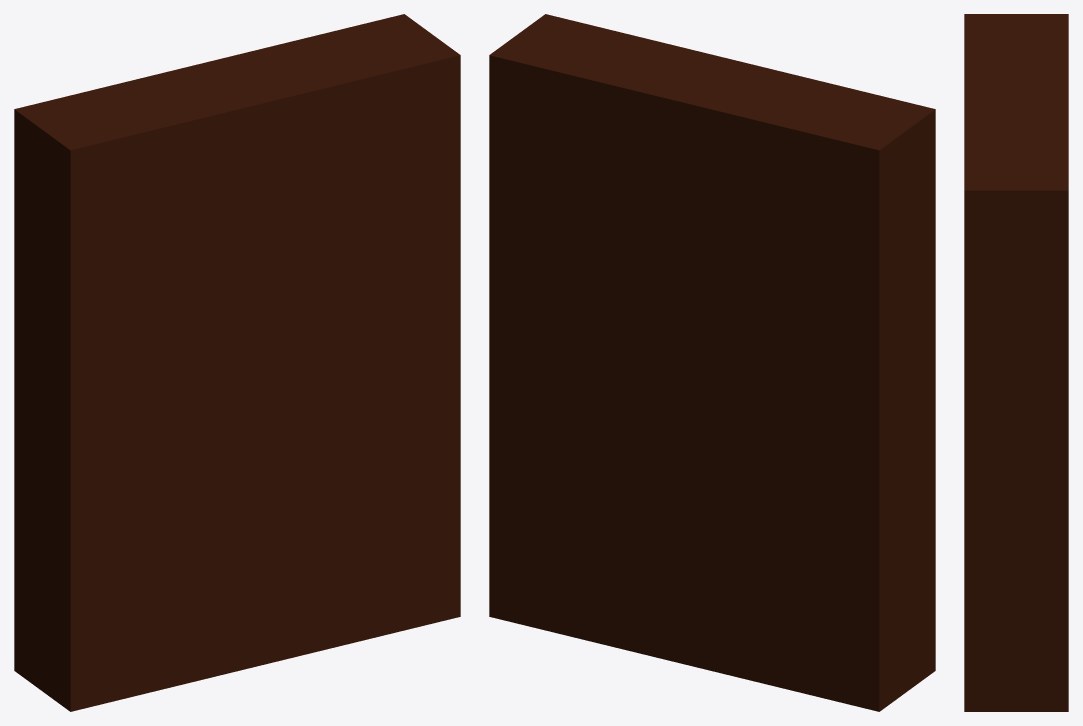
The model's file is bookshelf.obj.
The picture shows the model from 3 angles, left to right: view 1: azimuth 30°, elevation 25°; view 2: azimuth 150°, elevation 25°; view 3: azimuth 270°, elevation 25°; orthographic projection. The views are drawn at different scales.
Visible parts, largest first — view 1: bookshelf; view 2: bookshelf; view 3: bookshelf.
Part boxes in pixels (x1,y1,x2,y2): bookshelf: (14, 14, 460, 711); bookshelf: (489, 14, 935, 711); bookshelf: (964, 14, 1068, 711).
Bounding box in the file's own units: 1.6 × 2.2 × 0.4.
